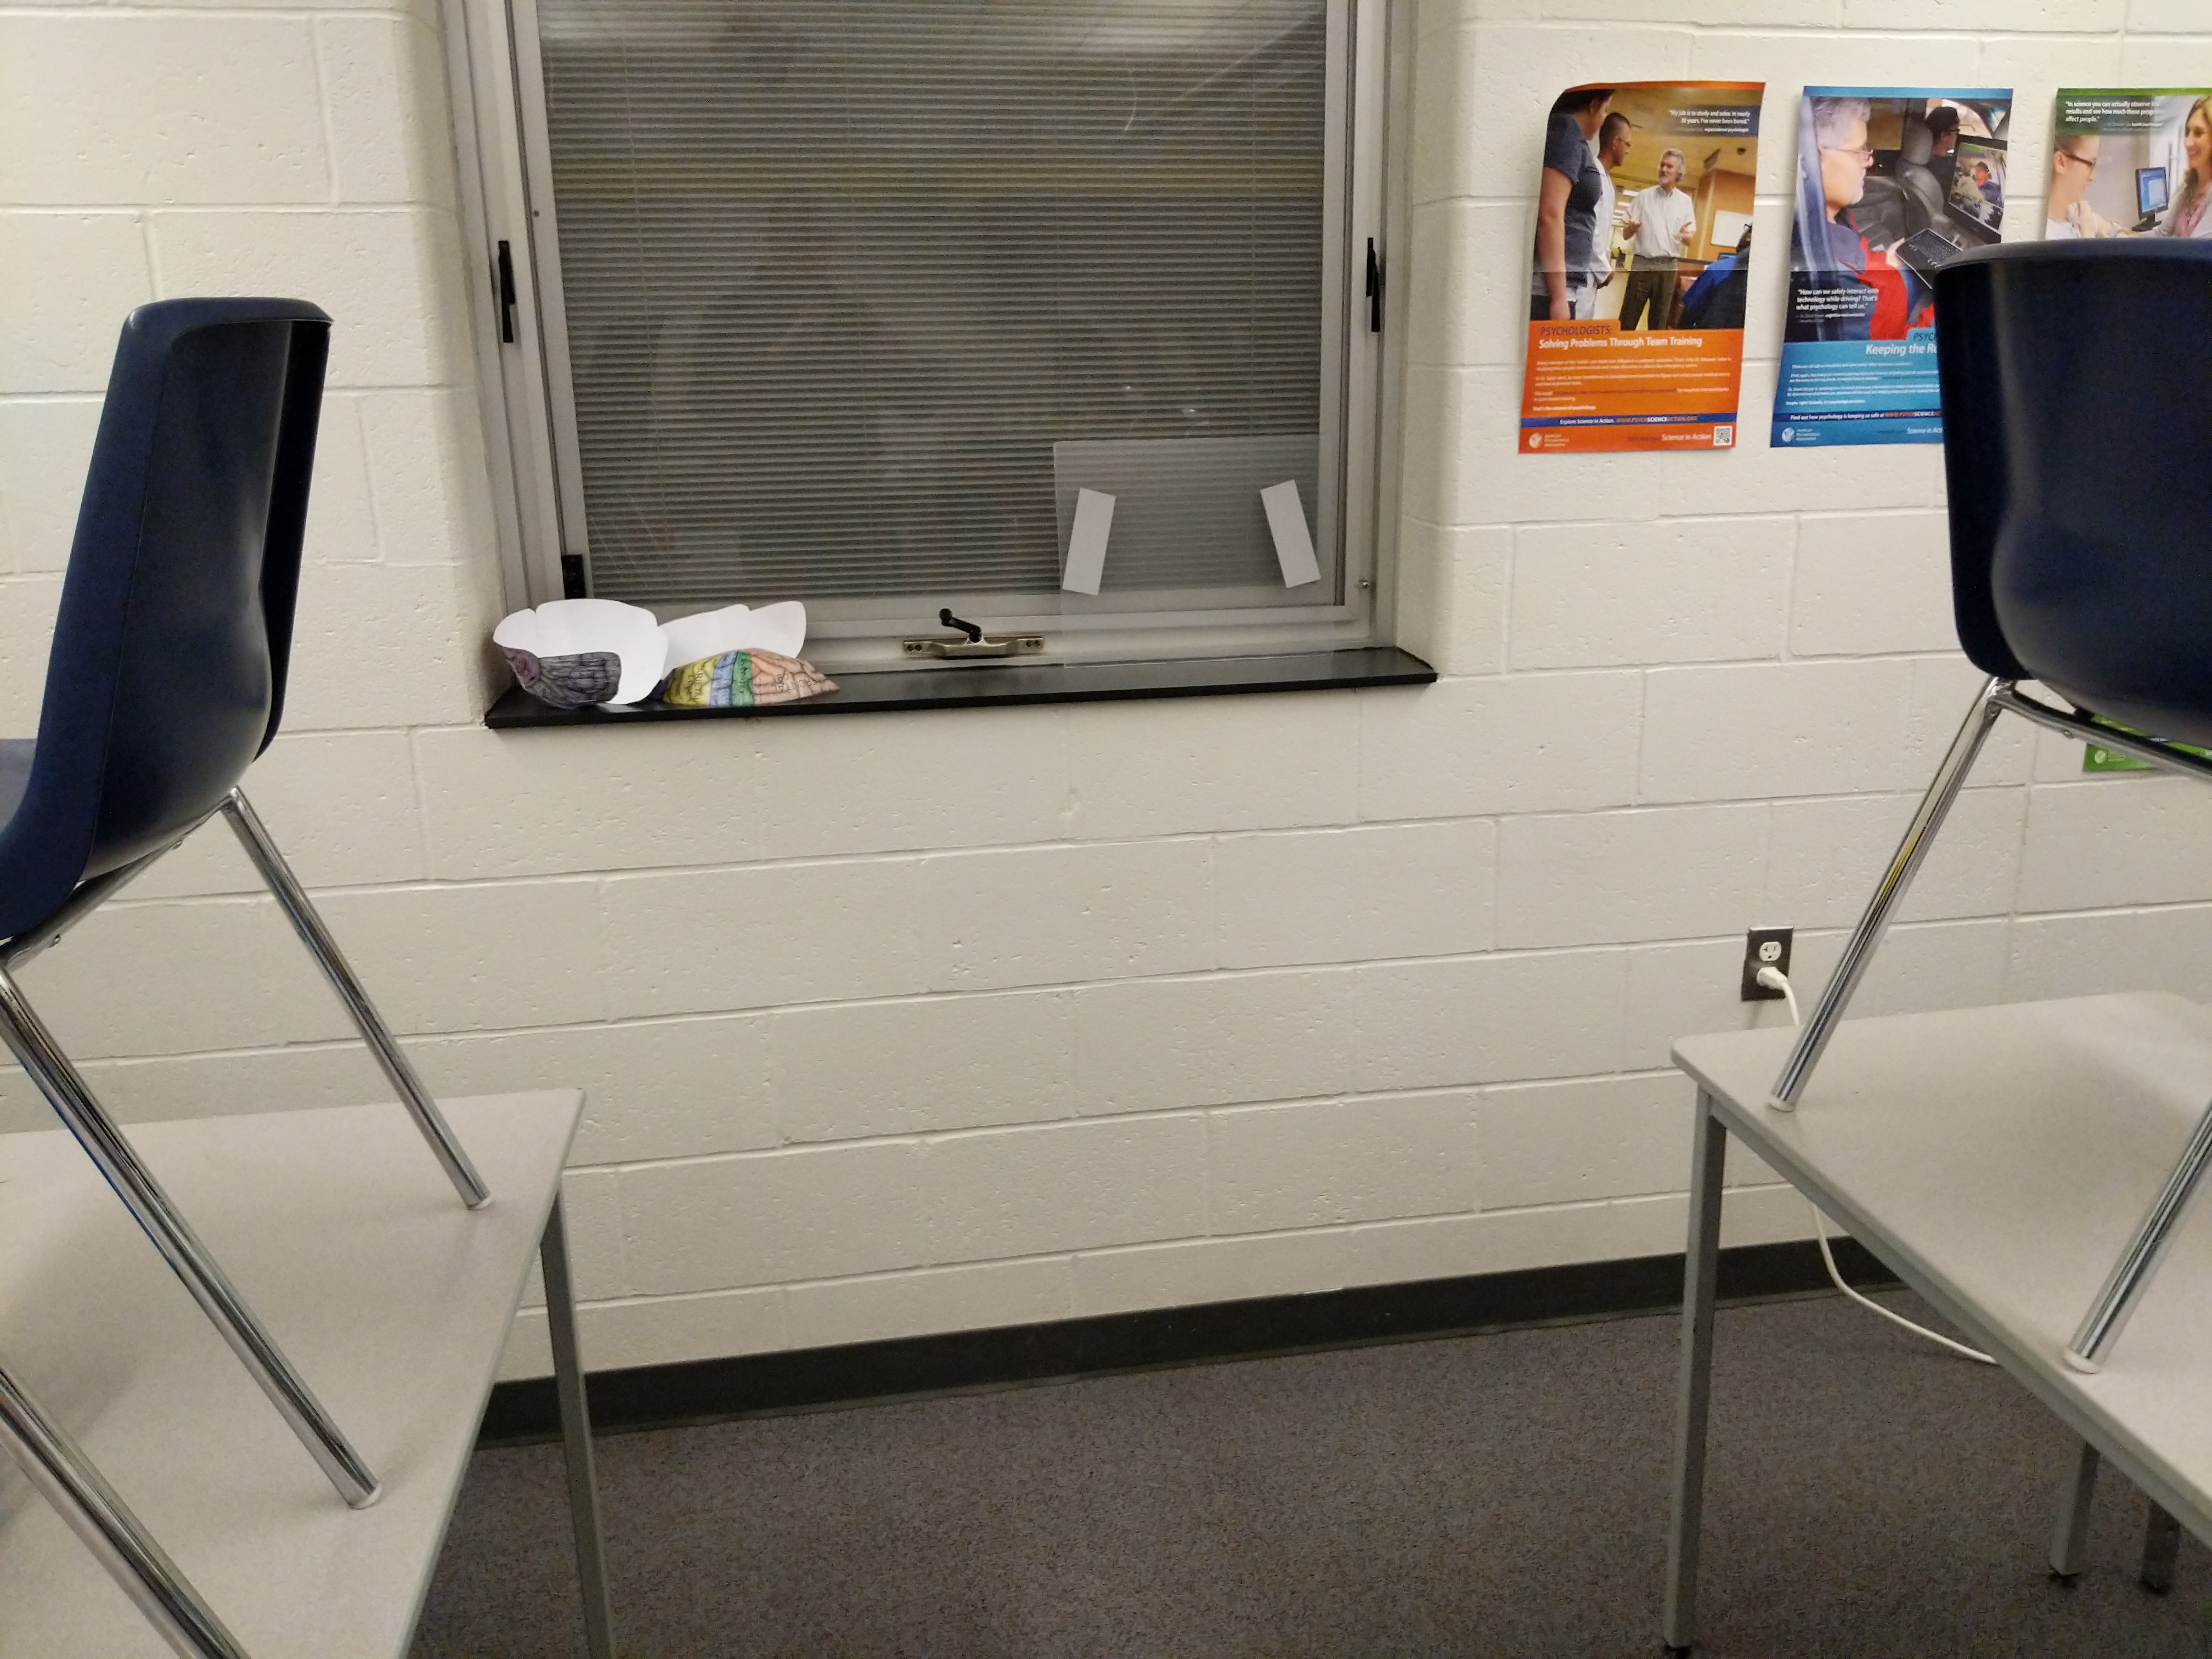vision_target: (1052, 483, 1329, 603)
